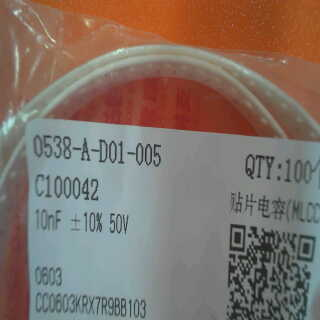10nF: (30, 207, 67, 236)
